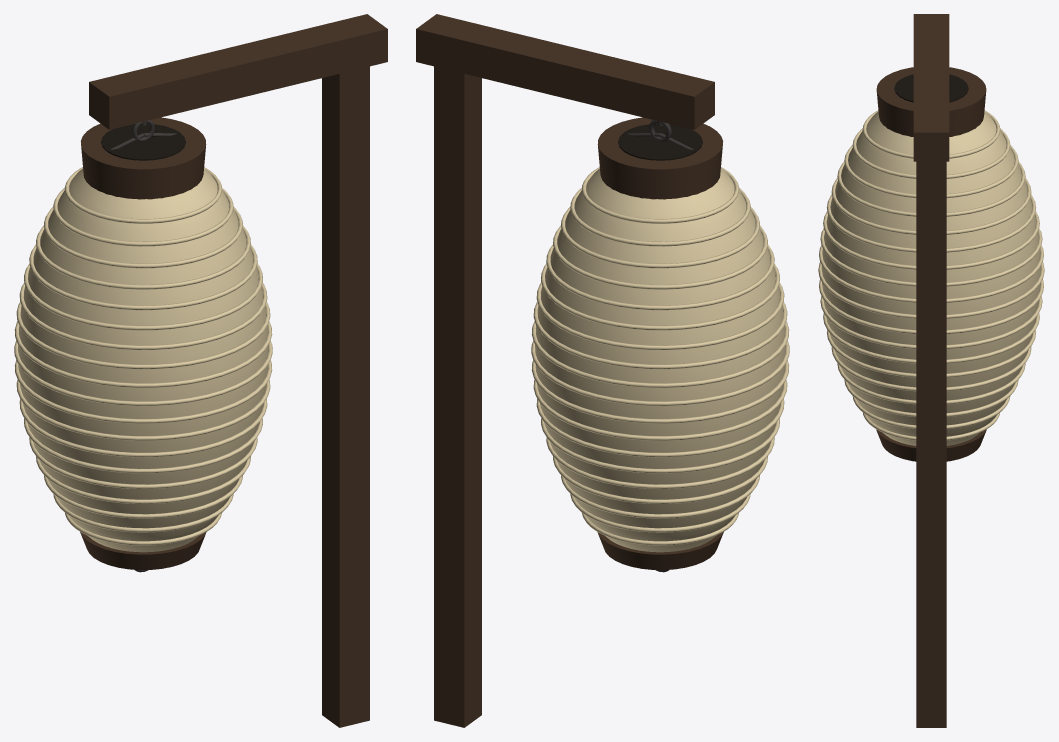
The model's file is ch6-piece-lantern.glb.
3 views of the same model, side by side, from view 1: azimuth 30°, elevation 25°; view 2: azimuth 150°, elevation 25°; view 3: azimuth 270°, elevation 25° (orthographic). The views are drawn at different scales.
Parts seen in each view (by area): view 1: lantern_body, support_post, support_arm, top_collar, bottom_disc, collar_opening, rib_12, rib_11, rib_10, rib_13, rib_9, rib_14 (+13 smaller); view 2: lantern_body, support_post, support_arm, top_collar, bottom_disc, collar_opening, rib_12, rib_11, rib_10, rib_13, rib_9, rib_14 (+13 smaller); view 3: lantern_body, support_post, support_arm, top_collar, bottom_disc, rib_11, rib_10, rib_12, rib_13, rib_9, rib_8, rib_14 (+13 smaller).
Part boxes in pixels (x1,y1,x2,y2): lantern_body: (18, 168, 268, 552); support_post: (322, 66, 369, 727); support_arm: (89, 14, 387, 129); top_collar: (80, 117, 206, 199); bottom_disc: (80, 532, 206, 569); collar_opening: (101, 123, 185, 160); rib_12: (16, 302, 270, 369); rib_11: (14, 321, 272, 387); rib_10: (14, 340, 272, 405); rib_13: (19, 282, 267, 349); rib_9: (14, 360, 272, 423); rib_14: (24, 263, 262, 330); lantern_body: (535, 168, 785, 552); support_post: (434, 66, 481, 727); support_arm: (416, 14, 714, 129); top_collar: (597, 117, 723, 199); bottom_disc: (597, 532, 723, 569); collar_opening: (618, 123, 702, 160); rib_12: (533, 302, 787, 369); rib_11: (531, 321, 789, 387); rib_10: (531, 340, 789, 405); rib_13: (536, 282, 784, 349); rib_9: (531, 360, 789, 423); rib_14: (541, 263, 779, 330); lantern_body: (821, 111, 1041, 445); support_post: (916, 161, 946, 727); support_arm: (913, 14, 949, 161); top_collar: (876, 67, 986, 136); bottom_disc: (876, 429, 986, 461); rib_11: (819, 245, 1043, 302); rib_10: (818, 262, 1044, 318); rib_12: (820, 228, 1042, 286); rib_13: (823, 211, 1039, 269); rib_9: (819, 279, 1043, 334); rib_8: (820, 296, 1042, 349); rib_14: (826, 194, 1036, 252).
Size of the model in its own units: 0.5472 by 1.04 by 0.3544.
